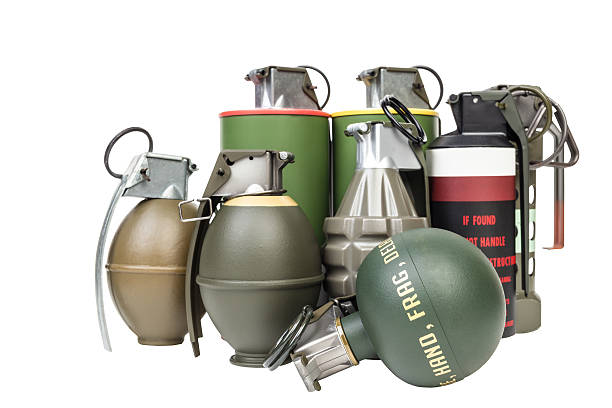e1: (289, 228, 509, 386), (187, 147, 320, 372), (93, 130, 190, 351)
